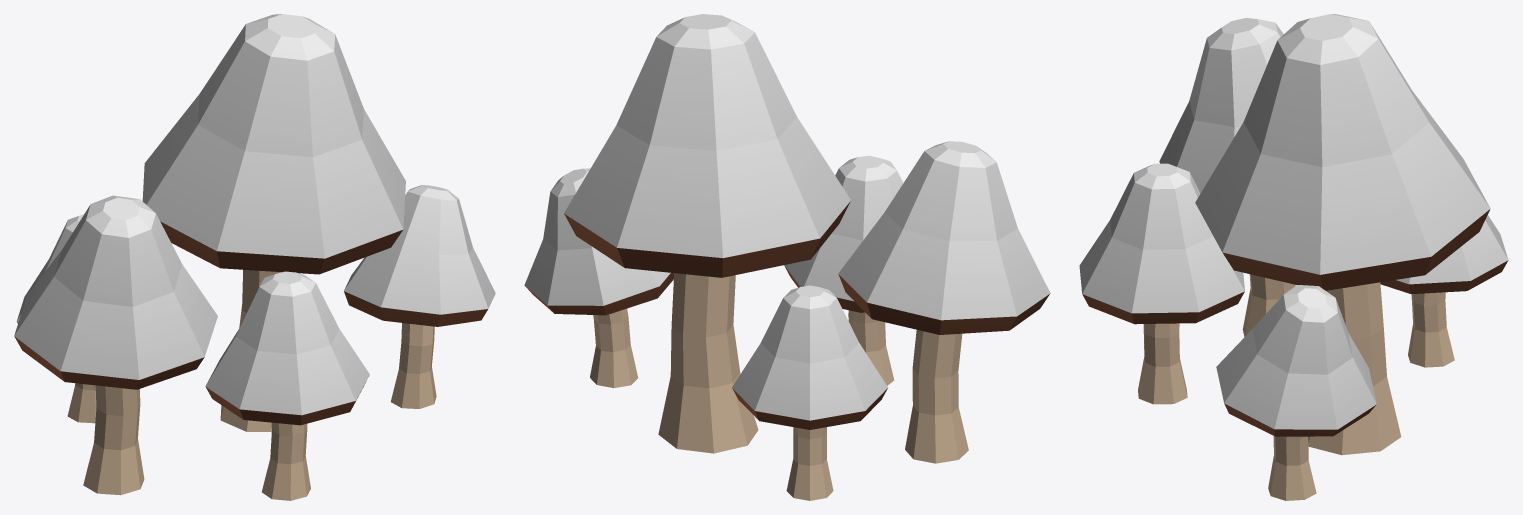
The model's file is Winter_Mushroom_03.glb.
3 renders of one model, left to right at view 1: azimuth 30°, elevation 25°; view 2: azimuth 150°, elevation 25°; view 3: azimuth 270°, elevation 25°, orthographic. The views are drawn at different scales.
Parts seen in each view (by area): view 1: Winter_Mushroom_03_LOD0; view 2: Winter_Mushroom_03_LOD0; view 3: Winter_Mushroom_03_LOD0.
Boxes of the visible parts, left/top/right/bottom form: Winter_Mushroom_03_LOD0: left=14, top=14, right=495, bottom=500; Winter_Mushroom_03_LOD0: left=524, top=14, right=1050, bottom=500; Winter_Mushroom_03_LOD0: left=1079, top=14, right=1508, bottom=500.
Size of what is drawn, in the model's own units: 0.3749 by 0.2998 by 0.2799.
Materials: 1 (1 with a texture image).
